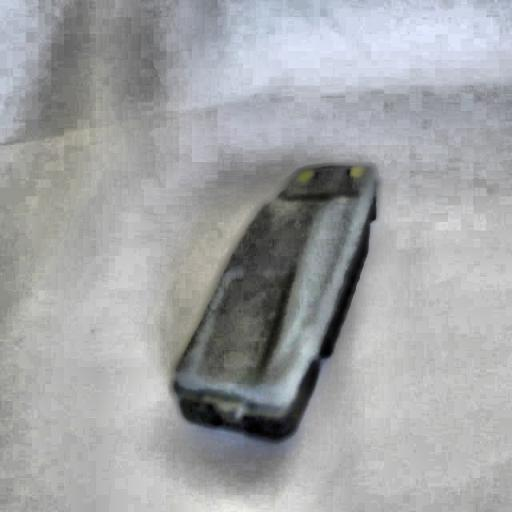normal_car: (166, 158, 382, 447)
